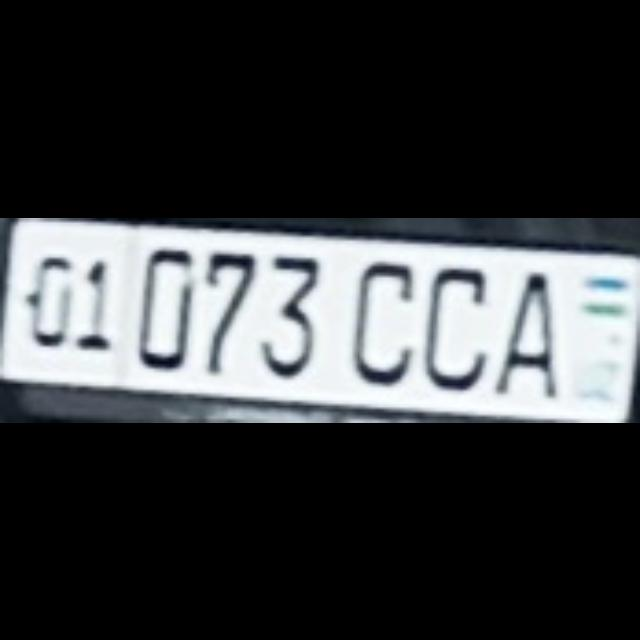0: (132, 242, 188, 364), (30, 250, 70, 342)
1: (74, 258, 106, 346)
3: (258, 250, 312, 372)
7: (198, 246, 250, 368)
A: (492, 268, 552, 394)
C: (420, 266, 482, 386), (353, 258, 412, 378)
